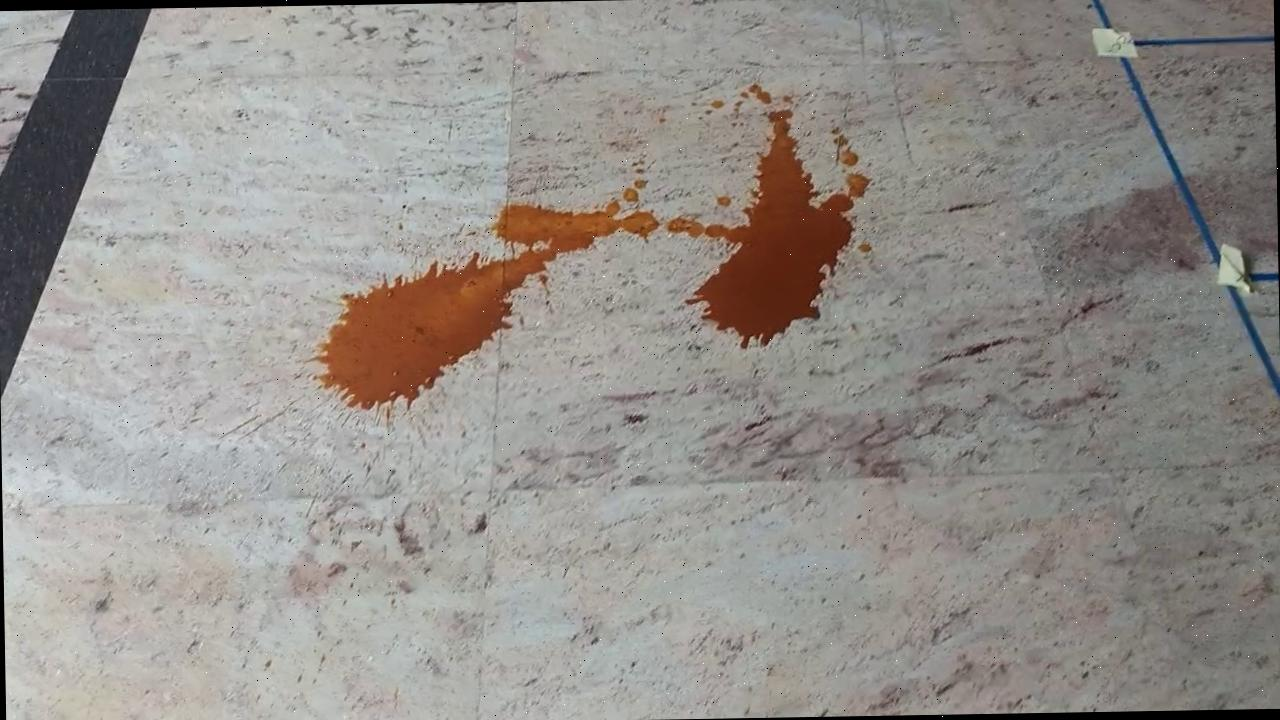dirty_floor: (313, 82, 866, 410)
